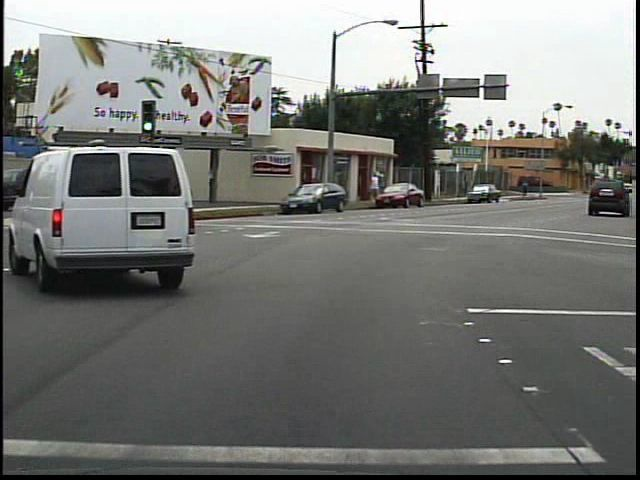person: (366, 169, 385, 208), (519, 178, 531, 200)
